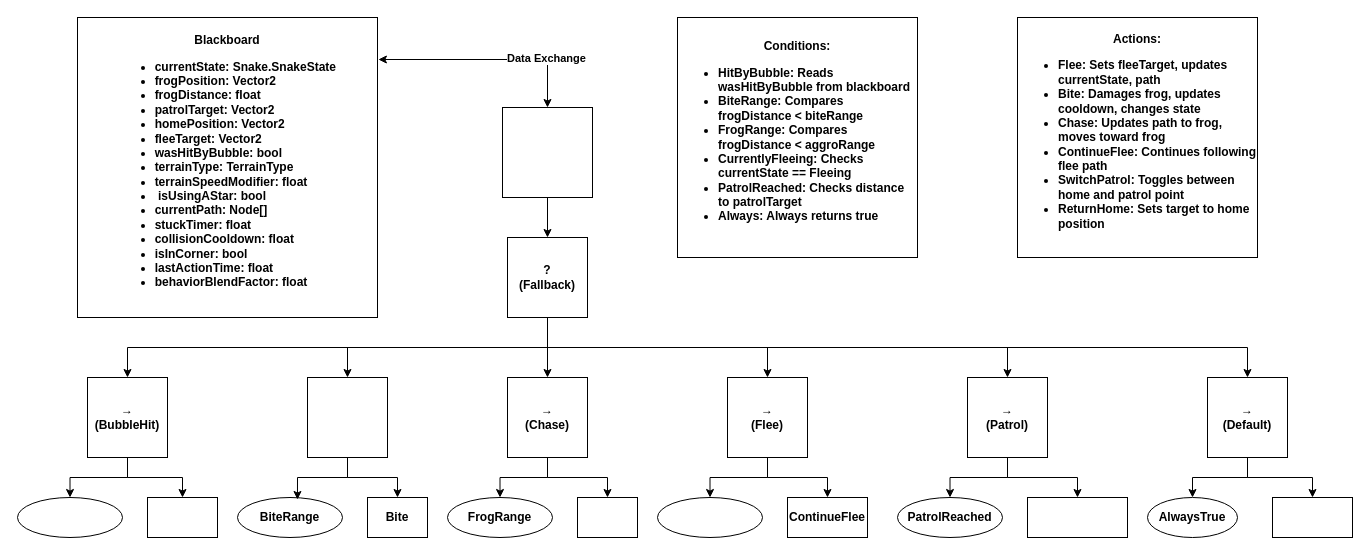
Image size: 1370x555. Some labels were removed from this diagram. Here are the shapes that lost their labels. From the top down, the box of each, then its label:
(502, 106, 592, 198): Root Selector
(306, 376, 388, 458): → (Bite)
(16, 496, 122, 538): HitByBubble
(146, 496, 218, 538): Flee
(576, 496, 638, 538): Chase
(656, 496, 762, 538): CurrentlyFleeing
(1026, 496, 1128, 538): SwitchPatrol
(1272, 496, 1352, 538): ReturnHome
